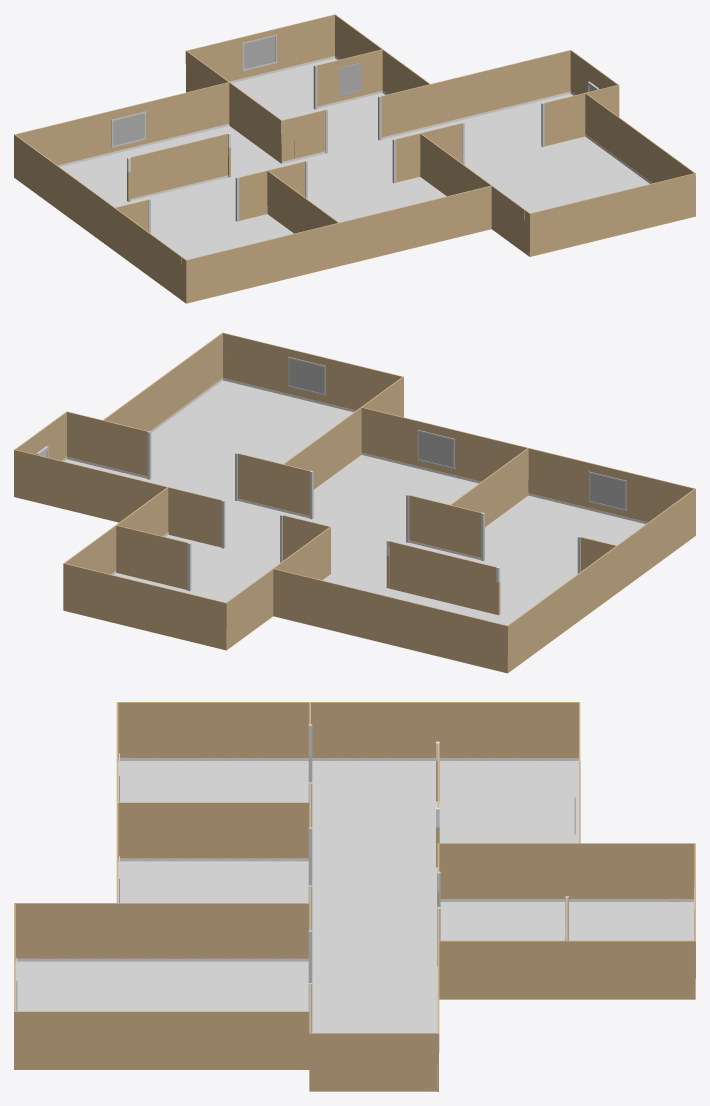
Rendered from GKV4.fbx.
3 renders of one model, top to bottom at view 1: azimuth 30°, elevation 25°; view 2: azimuth 150°, elevation 25°; view 3: azimuth 270°, elevation 25°, orthographic. The views are drawn at different scales.
Visible parts, largest first — view 1: Cube.069, Plane.005, Plane.001, Plane.002, Plane.004, Plane.049, Plane.003, Plane.175, Plane.170, Cube.223; view 2: Cube.069, Plane.004, Plane.005, Plane.001, Plane.049, Plane.002, Plane.003, Plane.172, Plane.171, Plane.173; view 3: Cube.069, Plane.001, Plane.004, Plane.005, Plane.002, Plane.003, Plane.049.
Boxes of the visible parts, box(x1,y1,x2,y2) form: Cube.069: box(14, 14, 695, 303); Plane.005: box(465, 136, 649, 256); Plane.001: box(112, 152, 375, 239); Plane.002: box(329, 93, 572, 187); Plane.004: box(117, 177, 446, 302); Plane.049: box(232, 58, 384, 163); Plane.003: box(60, 126, 280, 205); Plane.175: box(244, 36, 275, 68); Plane.170: box(113, 113, 144, 145); Cube.223: box(338, 62, 362, 96); Cube.069: box(14, 332, 695, 673); Plane.004: box(313, 455, 693, 592); Plane.005: box(151, 380, 353, 499); Plane.001: box(279, 523, 567, 619); Plane.049: box(113, 534, 280, 646); Plane.002: box(64, 459, 330, 561); Plane.003: box(273, 574, 515, 673); Plane.172: box(590, 473, 624, 509); Plane.171: box(419, 432, 453, 467); Plane.173: box(289, 359, 323, 393); Cube.069: box(14, 702, 695, 1091); Plane.001: box(312, 761, 437, 932); Plane.004: box(118, 761, 308, 961); Plane.005: box(15, 961, 308, 1011); Plane.002: box(312, 932, 437, 1032); Plane.003: box(439, 761, 580, 843); Plane.049: box(440, 902, 693, 940).
Size of what is drawn, in the model's own units: 12225 by 1008 by 10625.
